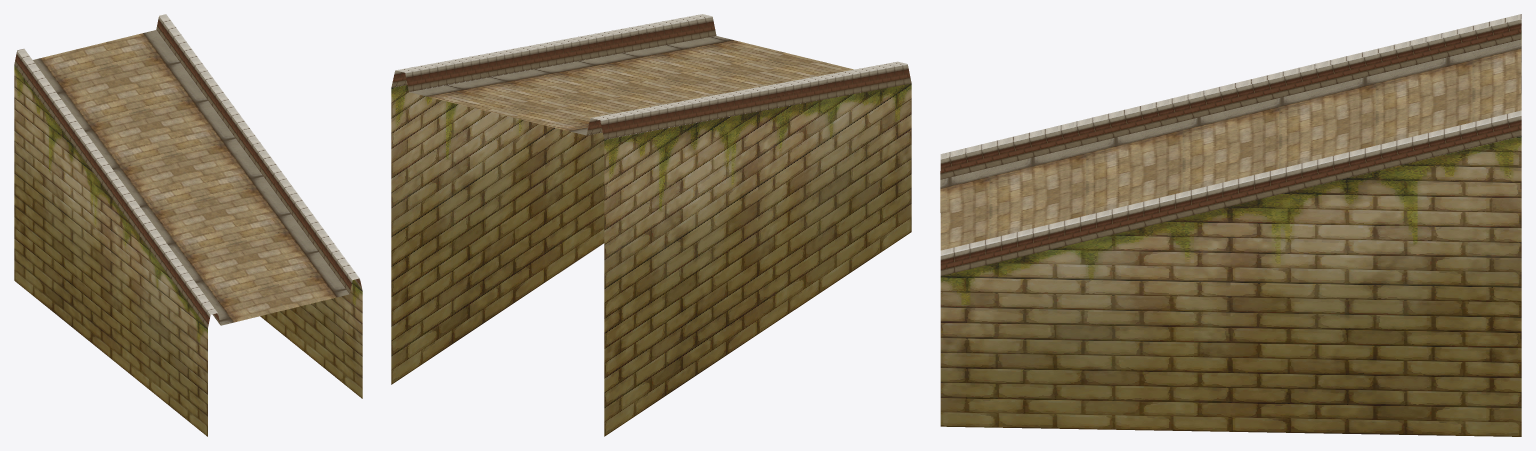
The model's file is obj_masaslope04.glb.
The picture shows the model from 3 angles, left to right: view 1: azimuth 30°, elevation 25°; view 2: azimuth 150°, elevation 25°; view 3: azimuth 270°, elevation 25°; orthographic projection. The views are drawn at different scales.
Parts seen in each view (by area): view 1: part_0; view 2: part_0; view 3: part_0.
Boxes of the visible parts, left/top/right/bottom form: part_0: left=14, top=14, right=362, bottom=436; part_0: left=391, top=14, right=911, bottom=436; part_0: left=940, top=14, right=1521, bottom=436.
Size of the model in its own units: 13.17 by 17 by 28.
Materials: 3 (3 with a texture image).
